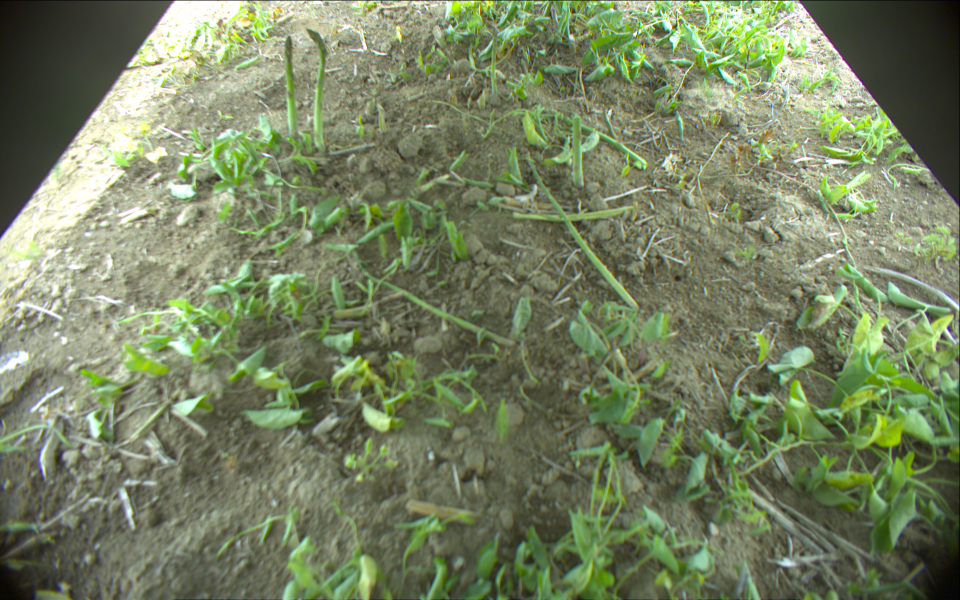aspa: (526, 154, 638, 308), (360, 268, 517, 345), (558, 111, 649, 166), (305, 27, 328, 153), (511, 202, 633, 220), (282, 34, 298, 139), (466, 40, 503, 79), (571, 113, 586, 188), (490, 25, 499, 93), (549, 4, 558, 27)
